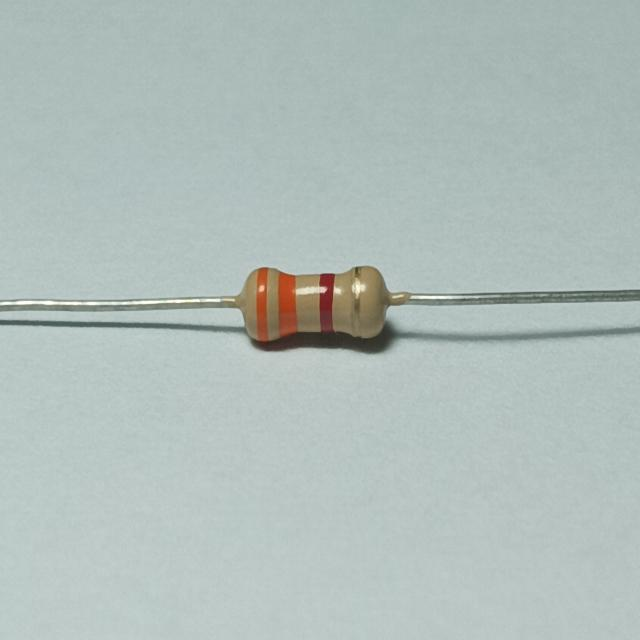3.3k ohms: (225, 230, 411, 385)
